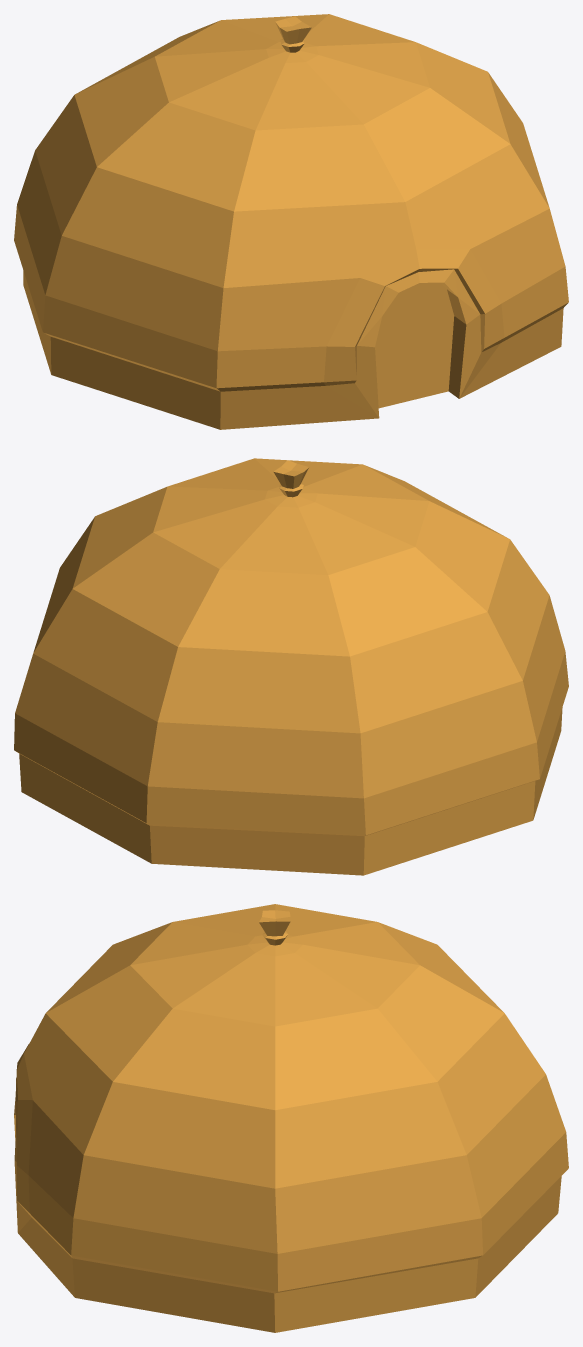
File: zulu-iqukwane.fbx
3 renders of one model, top to bottom at view 1: azimuth 30°, elevation 25°; view 2: azimuth 150°, elevation 25°; view 3: azimuth 270°, elevation 25°, orthographic.
Visible parts, largest first — view 1: zulu-iqukwane; view 2: zulu-iqukwane; view 3: zulu-iqukwane.
Boxes of the visible parts, <box> form: zulu-iqukwane: <box>14,14,568,429</box>; zulu-iqukwane: <box>14,458,568,875</box>; zulu-iqukwane: <box>14,904,568,1332</box>.
Size of the model in its own units: 5.16 by 2.89 by 4.9.
